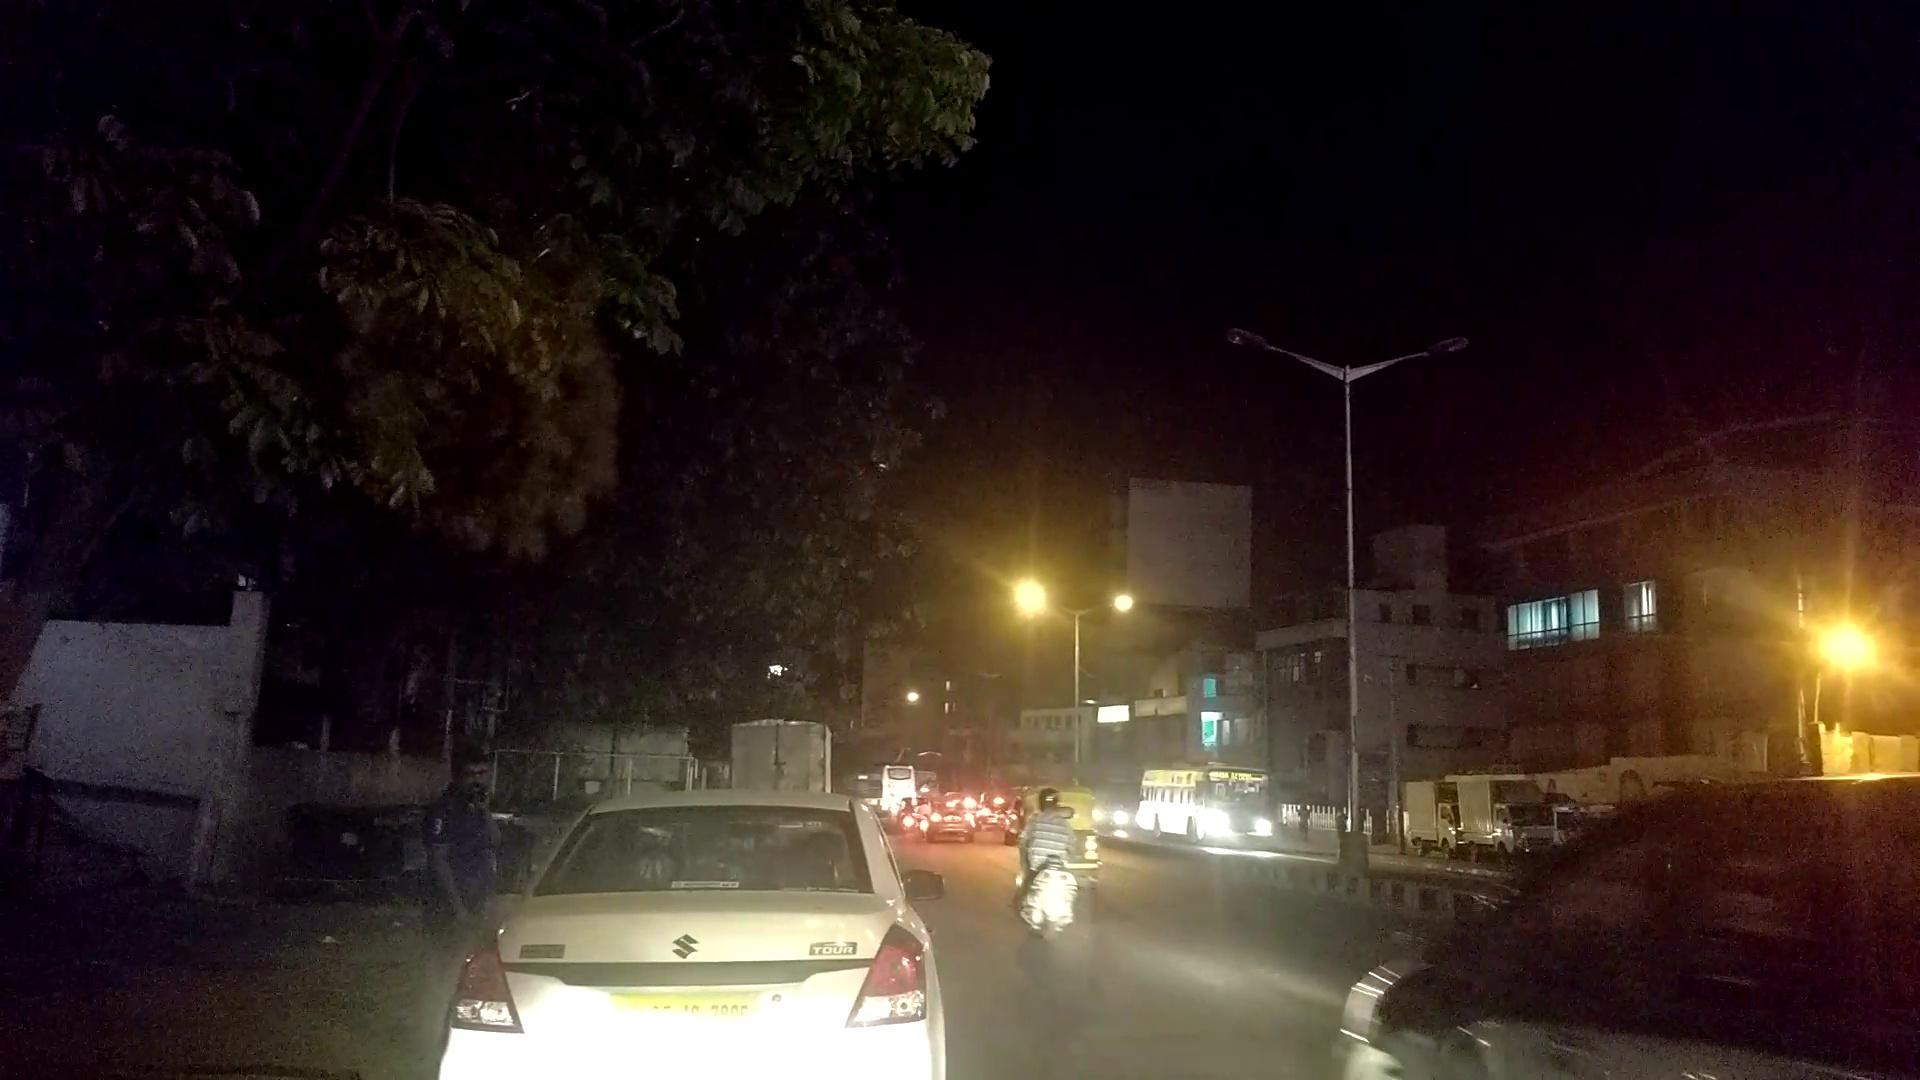on: (920, 411, 1614, 843)
